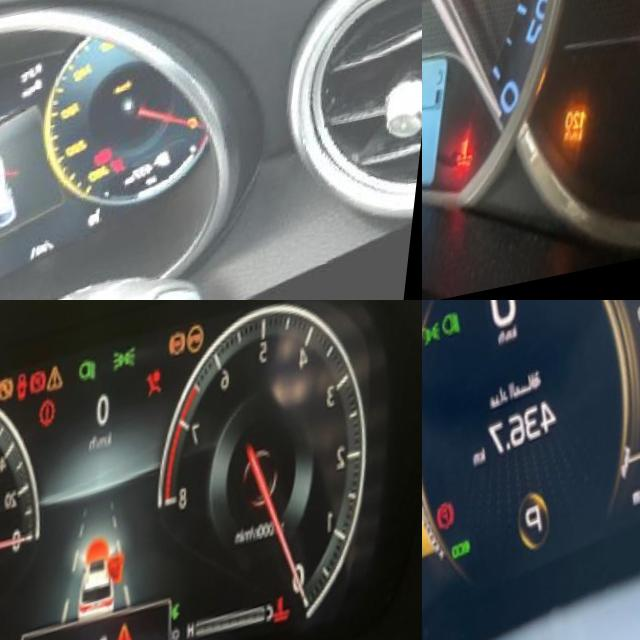Central Warning lamp: (48, 372, 73, 407)
Doors: (17, 377, 37, 413)
Engine cooling system: (279, 610, 306, 640)
High Engine Coolant Temperature: (464, 143, 490, 188)
Low beam: (443, 315, 473, 353), (80, 364, 108, 400)
